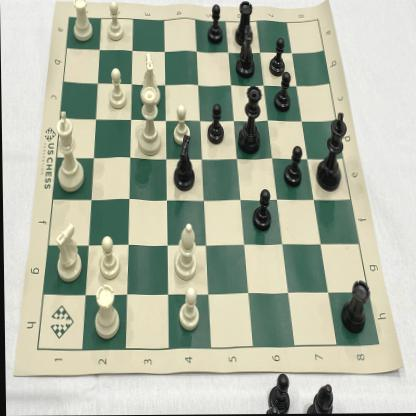black-king: (315, 108, 348, 194)
black-knight: (170, 134, 199, 194), (235, 25, 253, 79)
black-pawn: (281, 143, 304, 190), (252, 187, 272, 234), (272, 70, 293, 114), (205, 103, 226, 147), (205, 2, 225, 46), (266, 35, 286, 76)
black-queen: (235, 83, 264, 160)
black-rook: (338, 275, 370, 337), (234, 1, 256, 49)
white-bishop: (170, 221, 199, 283)
white-king: (52, 109, 87, 195)
white-knight: (49, 219, 84, 285), (138, 51, 163, 108)
white-pawn: (173, 284, 201, 336), (105, 66, 130, 111), (98, 233, 120, 281), (170, 99, 192, 146), (104, 1, 126, 43)
white-queen: (136, 86, 165, 158)
white-rook: (90, 283, 120, 341), (70, 0, 95, 44)
